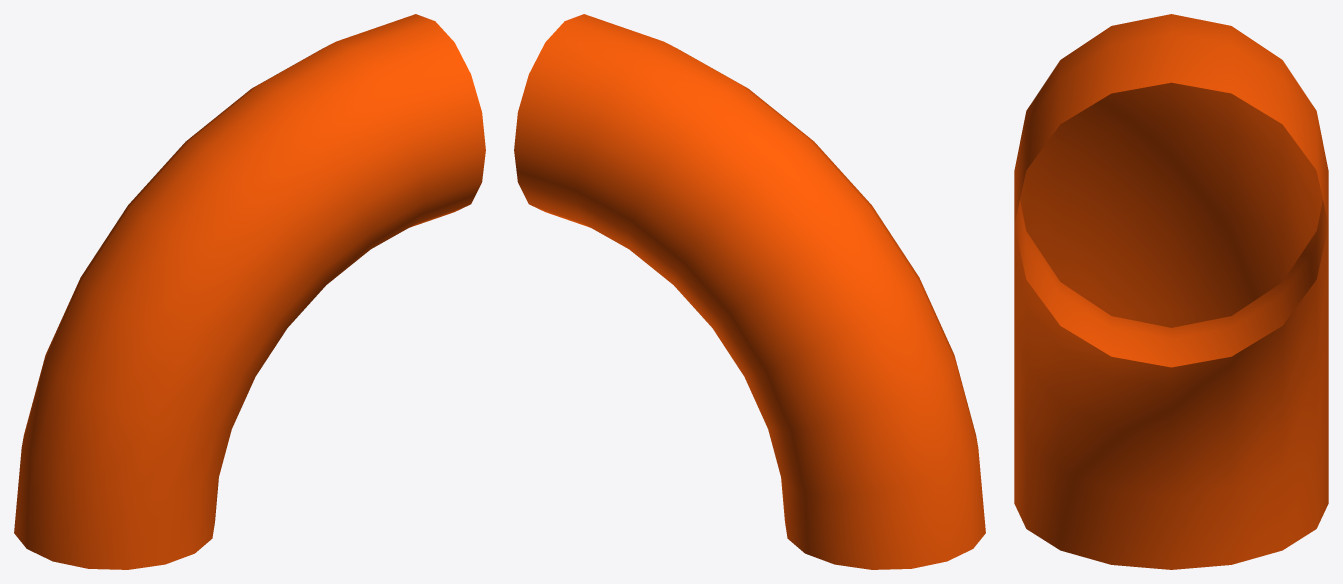
The model's file is Pipe_Corner.fbx.
The picture shows the model from 3 angles, left to right: view 1: azimuth 30°, elevation 25°; view 2: azimuth 150°, elevation 25°; view 3: azimuth 270°, elevation 25°; orthographic projection. The views are drawn at different scales.
Visible parts, largest first — view 1: Pipe_Corner; view 2: Pipe_Corner; view 3: Pipe_Corner.
Part boxes in pixels (x1=…): Pipe_Corner: x1=14, y1=14, x2=485, y2=569; Pipe_Corner: x1=514, y1=14, x2=985, y2=569; Pipe_Corner: x1=1014, y1=14, x2=1328, y2=569.
Size of the model in its own units: 512 by 512 by 220.
